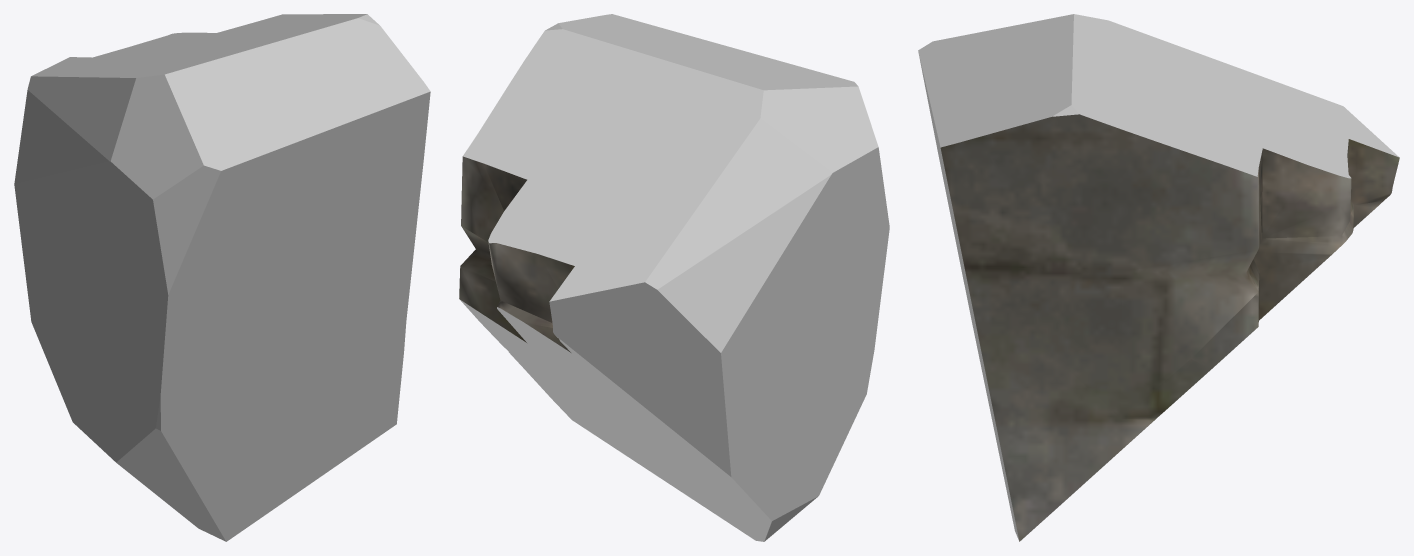
The model's file is ColumnDamage08_50.fbx.
3 renders of one model, left to right at view 1: azimuth 30°, elevation 25°; view 2: azimuth 150°, elevation 25°; view 3: azimuth 270°, elevation 25°, orthographic. The views are drawn at different scales.
Visible parts, largest first — view 1: ColumnDamage08_DM.050; view 2: ColumnDamage08_DM.050; view 3: ColumnDamage08_DM.050.
Boxes of the visible parts, x1,y1,x2,y2 form: ColumnDamage08_DM.050: [14, 14, 430, 541]; ColumnDamage08_DM.050: [459, 14, 889, 541]; ColumnDamage08_DM.050: [918, 14, 1399, 541].
Size of the model in its own units: 117 by 194 by 166.
